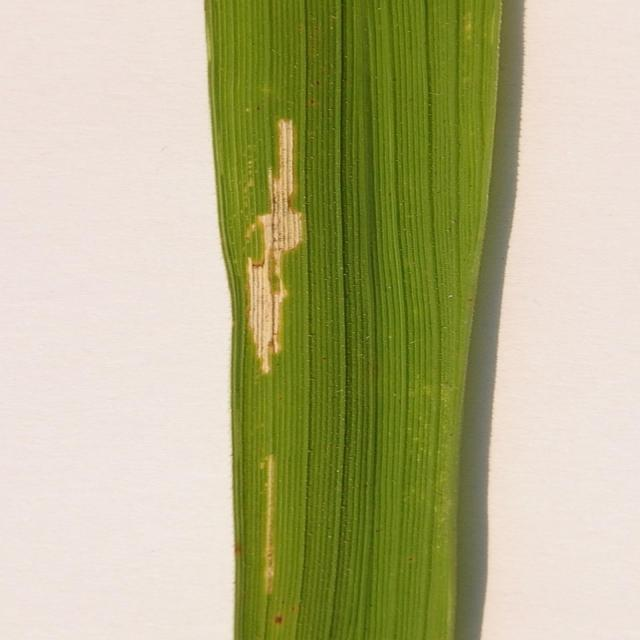Bacterial leaf blight: (185, 0, 572, 640)
